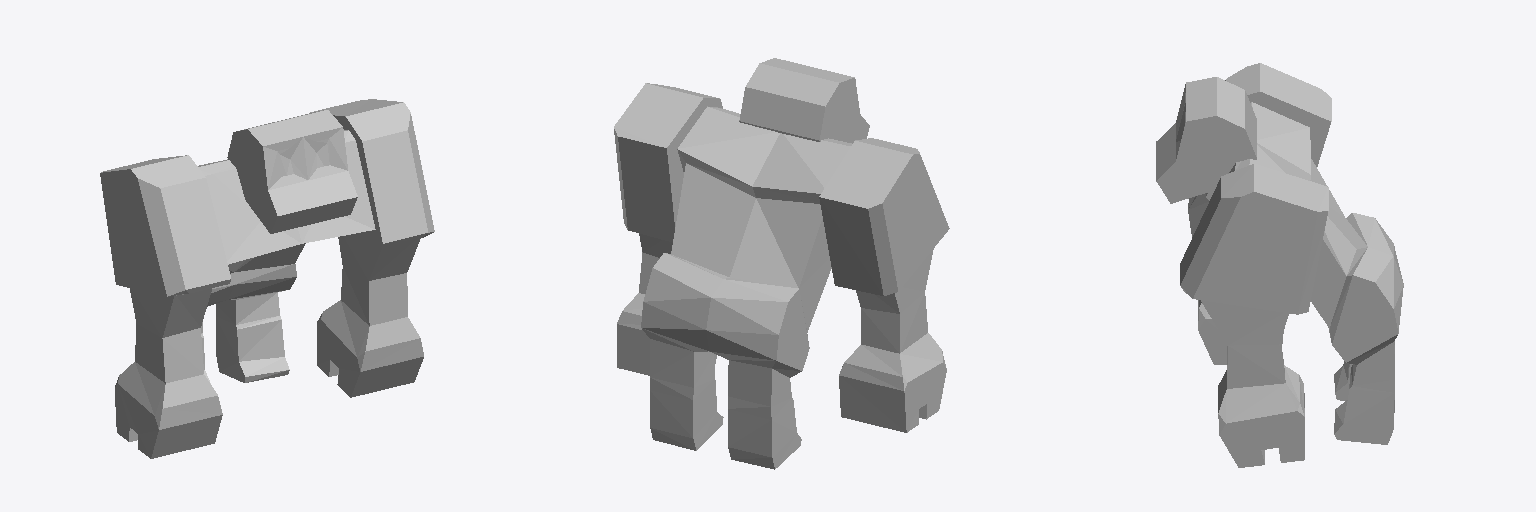
File: kong_000009.obj
3 views of the same model, side by side, from view 1: azimuth 30°, elevation 25°; view 2: azimuth 150°, elevation 25°; view 3: azimuth 270°, elevation 25° (orthographic).
Parts seen in each view (by area): view 1: Cube; view 2: Cube; view 3: Cube.
Part boxes in pixels (x1,y1,x2,y2): Cube: (100,99,434,458); Cube: (614,58,949,469); Cube: (1156,63,1403,467).
Bounding box in the file's own units: 5.84 × 6.42 × 4.51.